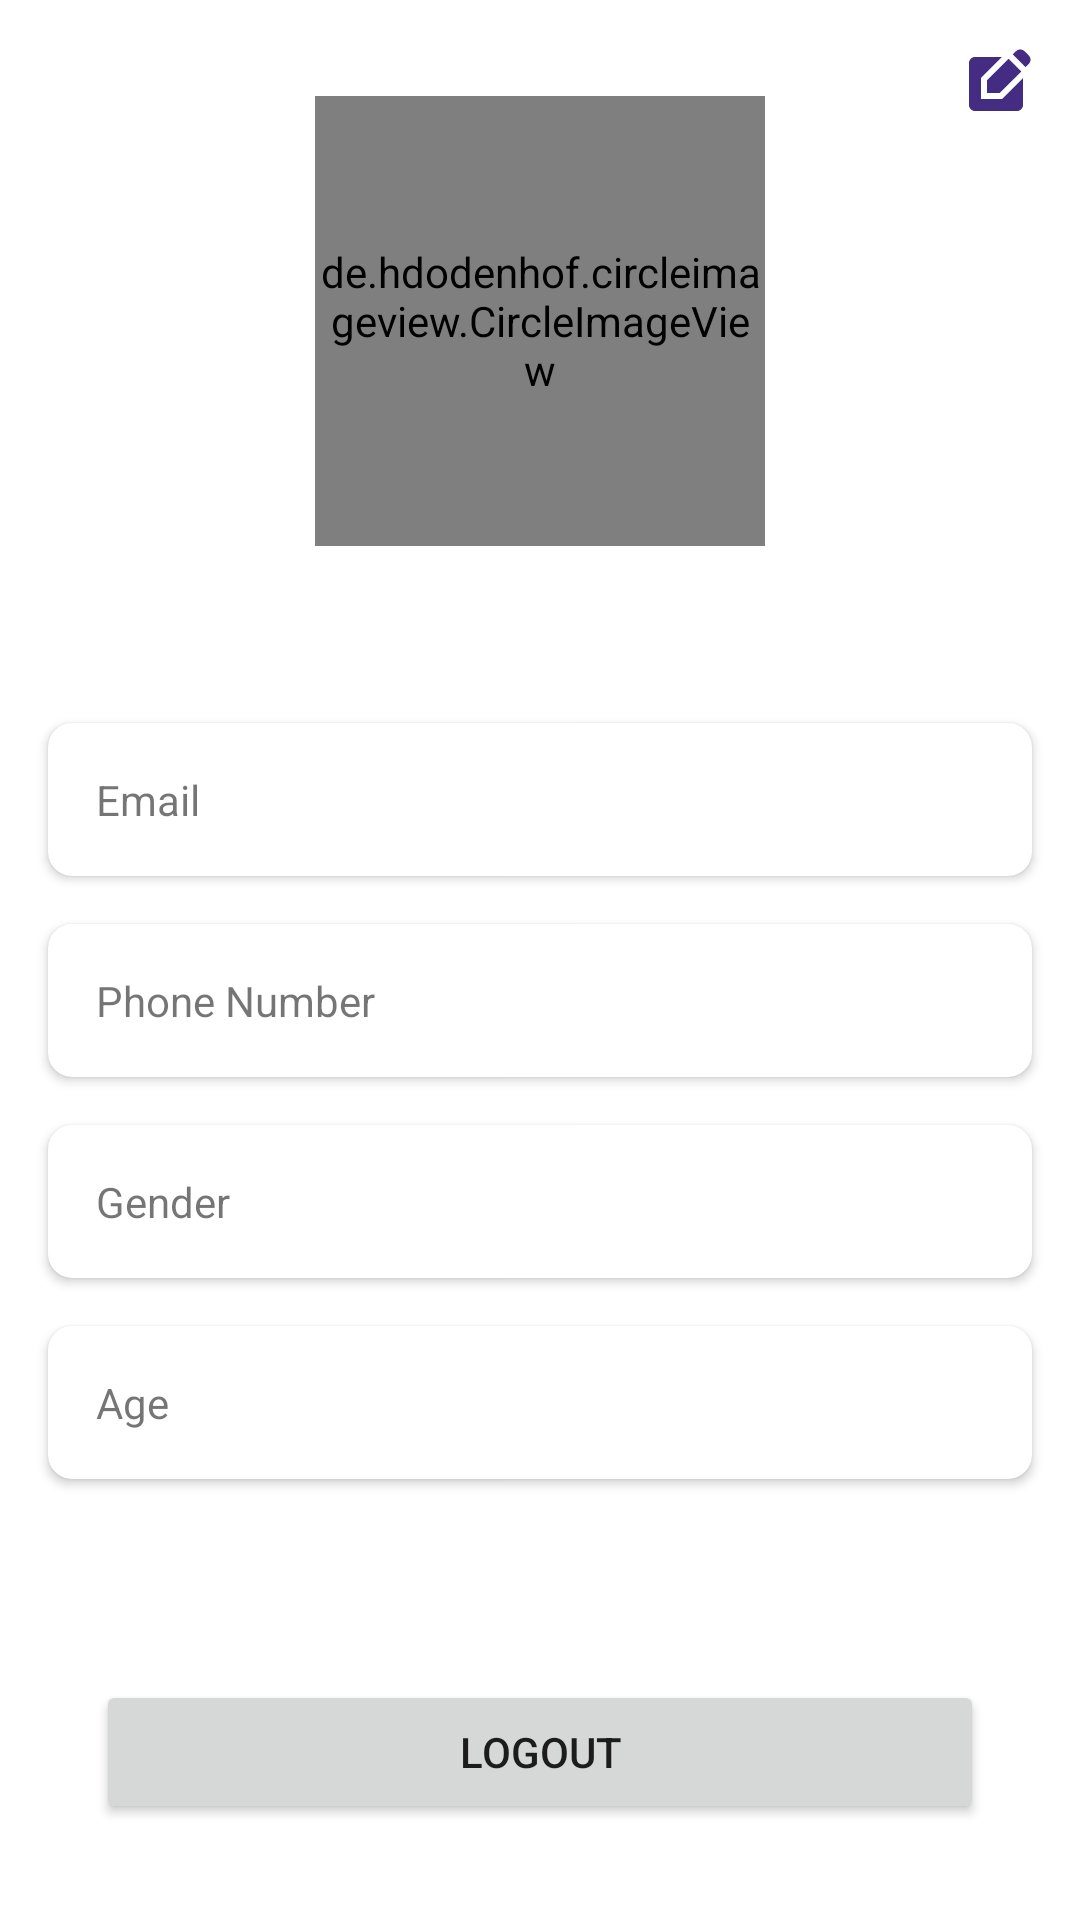

Icons on this 1080 x 1920 Android screen, each with its box as [x1, y1, x2, y2]:
edit square: [969, 49, 1031, 111]
